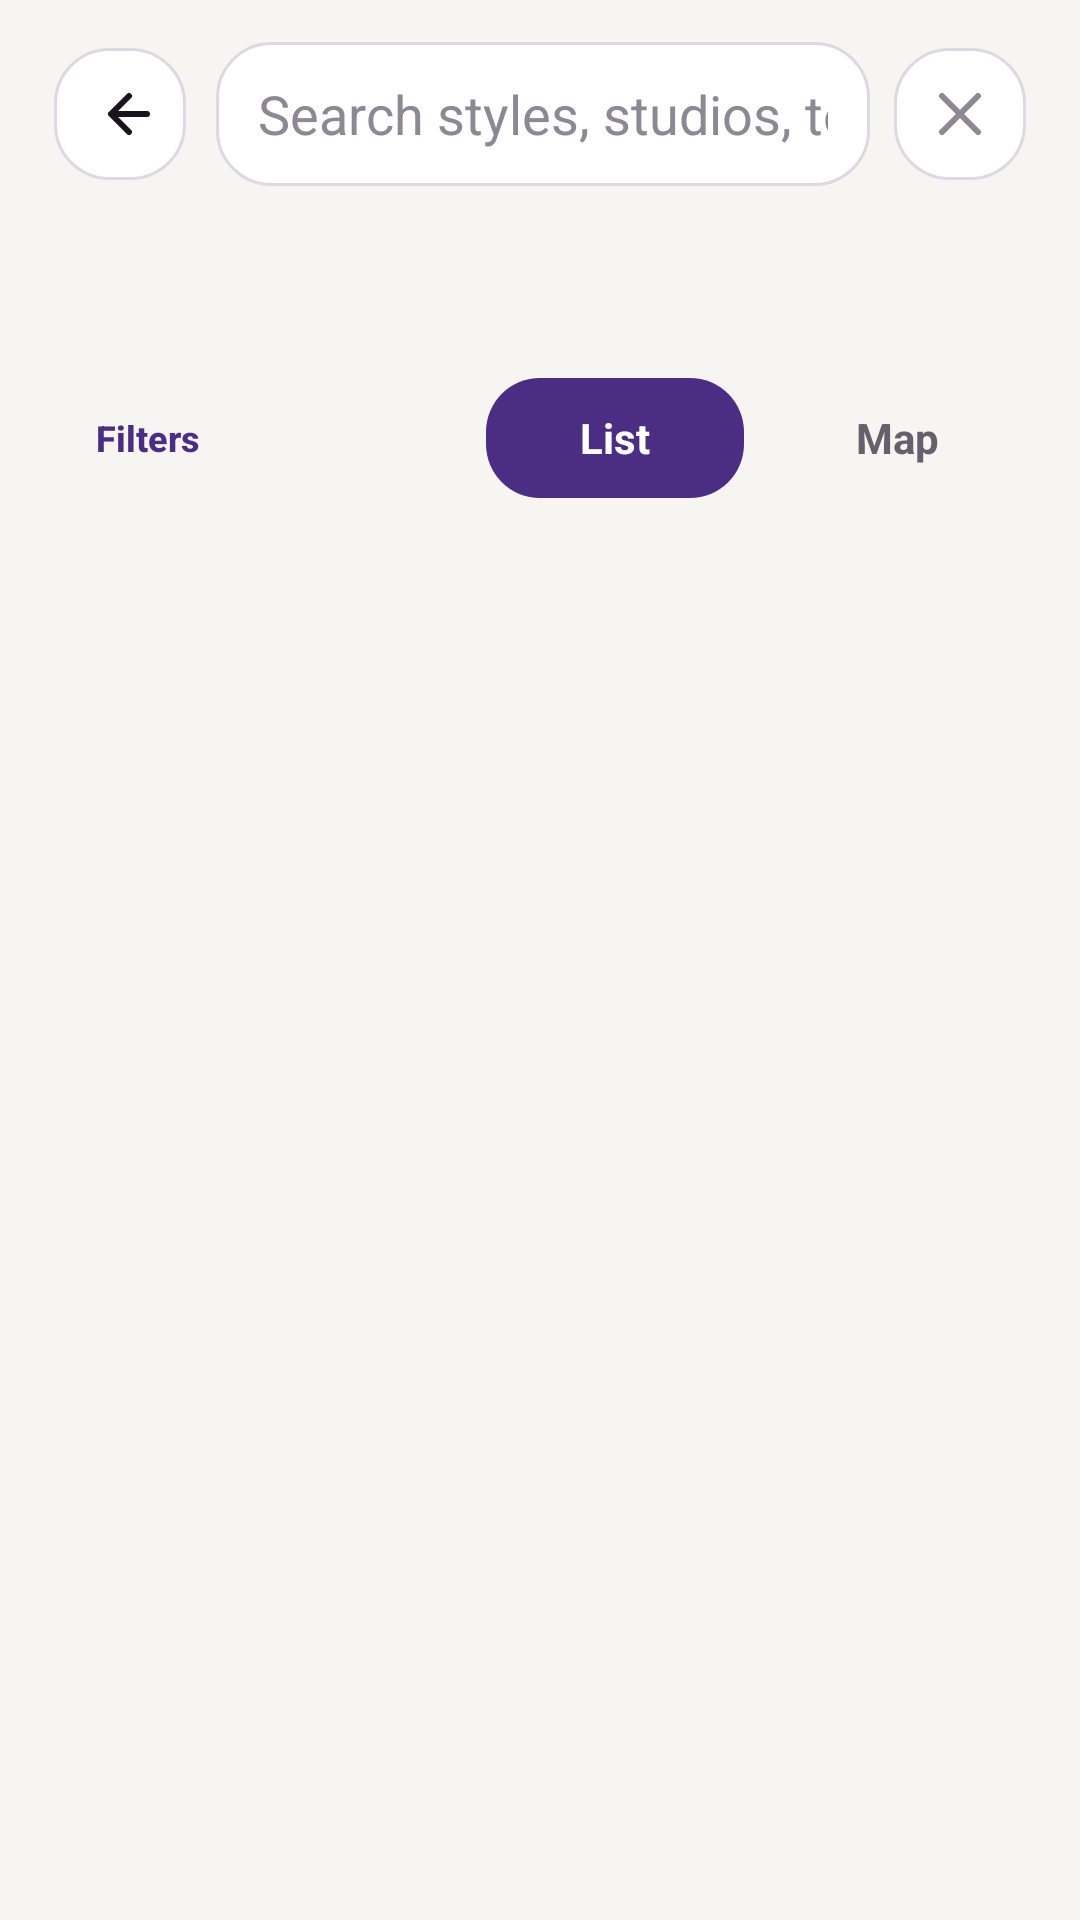

Where icons sit on this 1080x1920 app screen, as bbox=[x1, y1, x2, y2]:
Back: bbox=[54, 48, 186, 180]
Clear search: bbox=[894, 48, 1026, 180]
